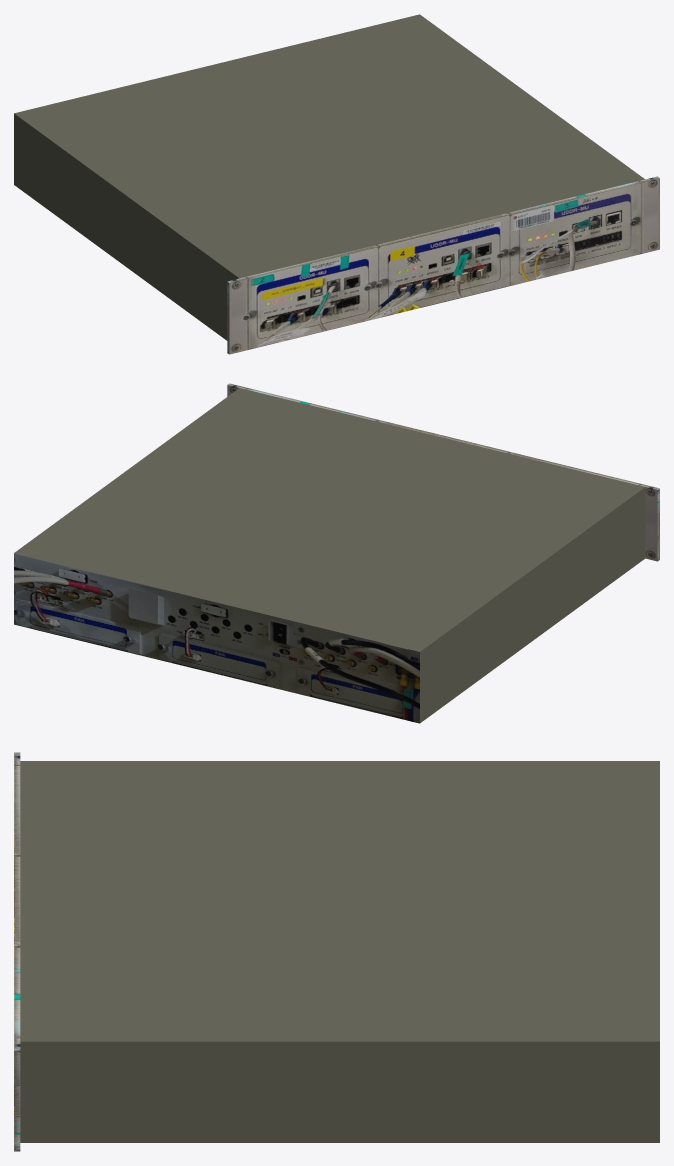
Rendered from Samsung_850M_소출력RRH.fbx.
3 renders of one model, top to bottom at view 1: azimuth 30°, elevation 25°; view 2: azimuth 150°, elevation 25°; view 3: azimuth 270°, elevation 25°, orthographic. The views are drawn at different scales.
Visible parts, largest first — view 1: Samsung/850M/소출력RRH; view 2: Samsung/850M/소출력RRH; view 3: Samsung/850M/소출력RRH.
Part boxes in pixels (x1,y1,x2,y2): Samsung/850M/소출력RRH: (14,14,659,354); Samsung/850M/소출력RRH: (14,383,659,723); Samsung/850M/소출력RRH: (14,752,659,1151).
Size of the model in its own units: 560 by 88.9 by 513.
Materials: 3 (2 with a texture image).
